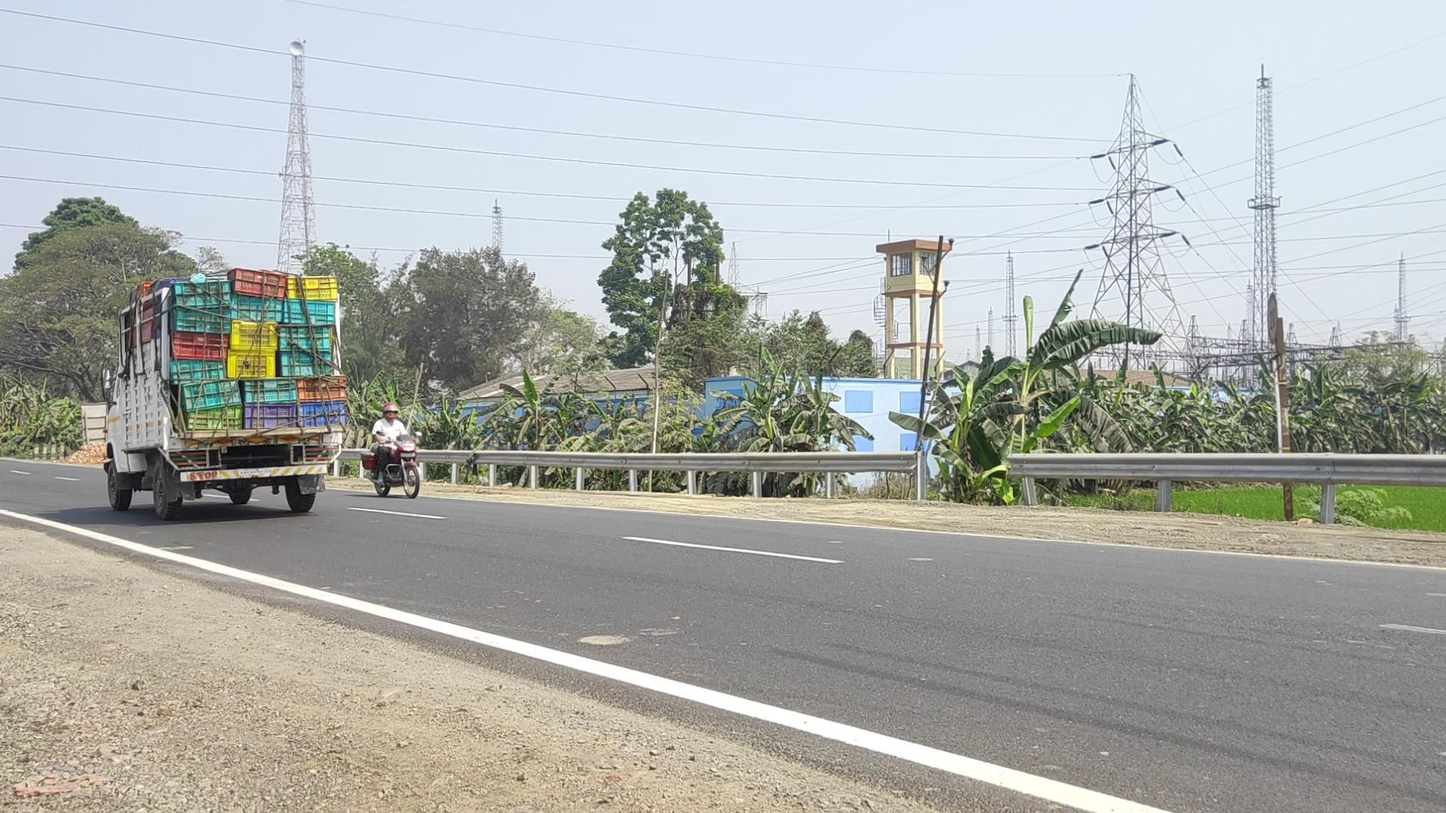bike: (361, 403, 423, 498)
truck: (103, 268, 349, 522)
